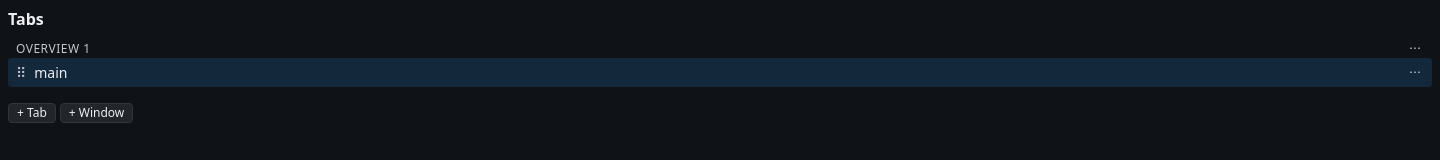
it: the window menu › with one window the reason is that it is the only one
Click the button named "Overview 1 actions". click: coordinates (1415, 48)
box: [1406,38,1424,58]
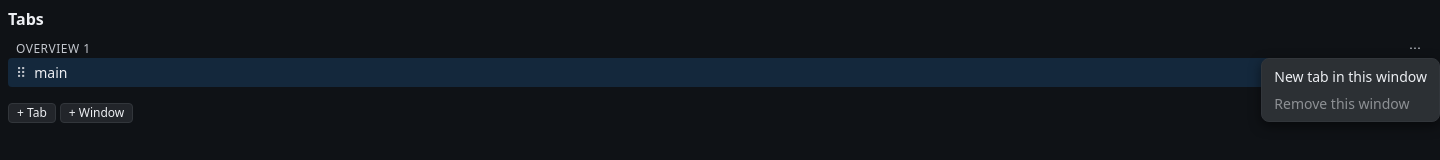
expect the menu item "Remove this window" is disabled: met, box [1266,90,1435,117]
